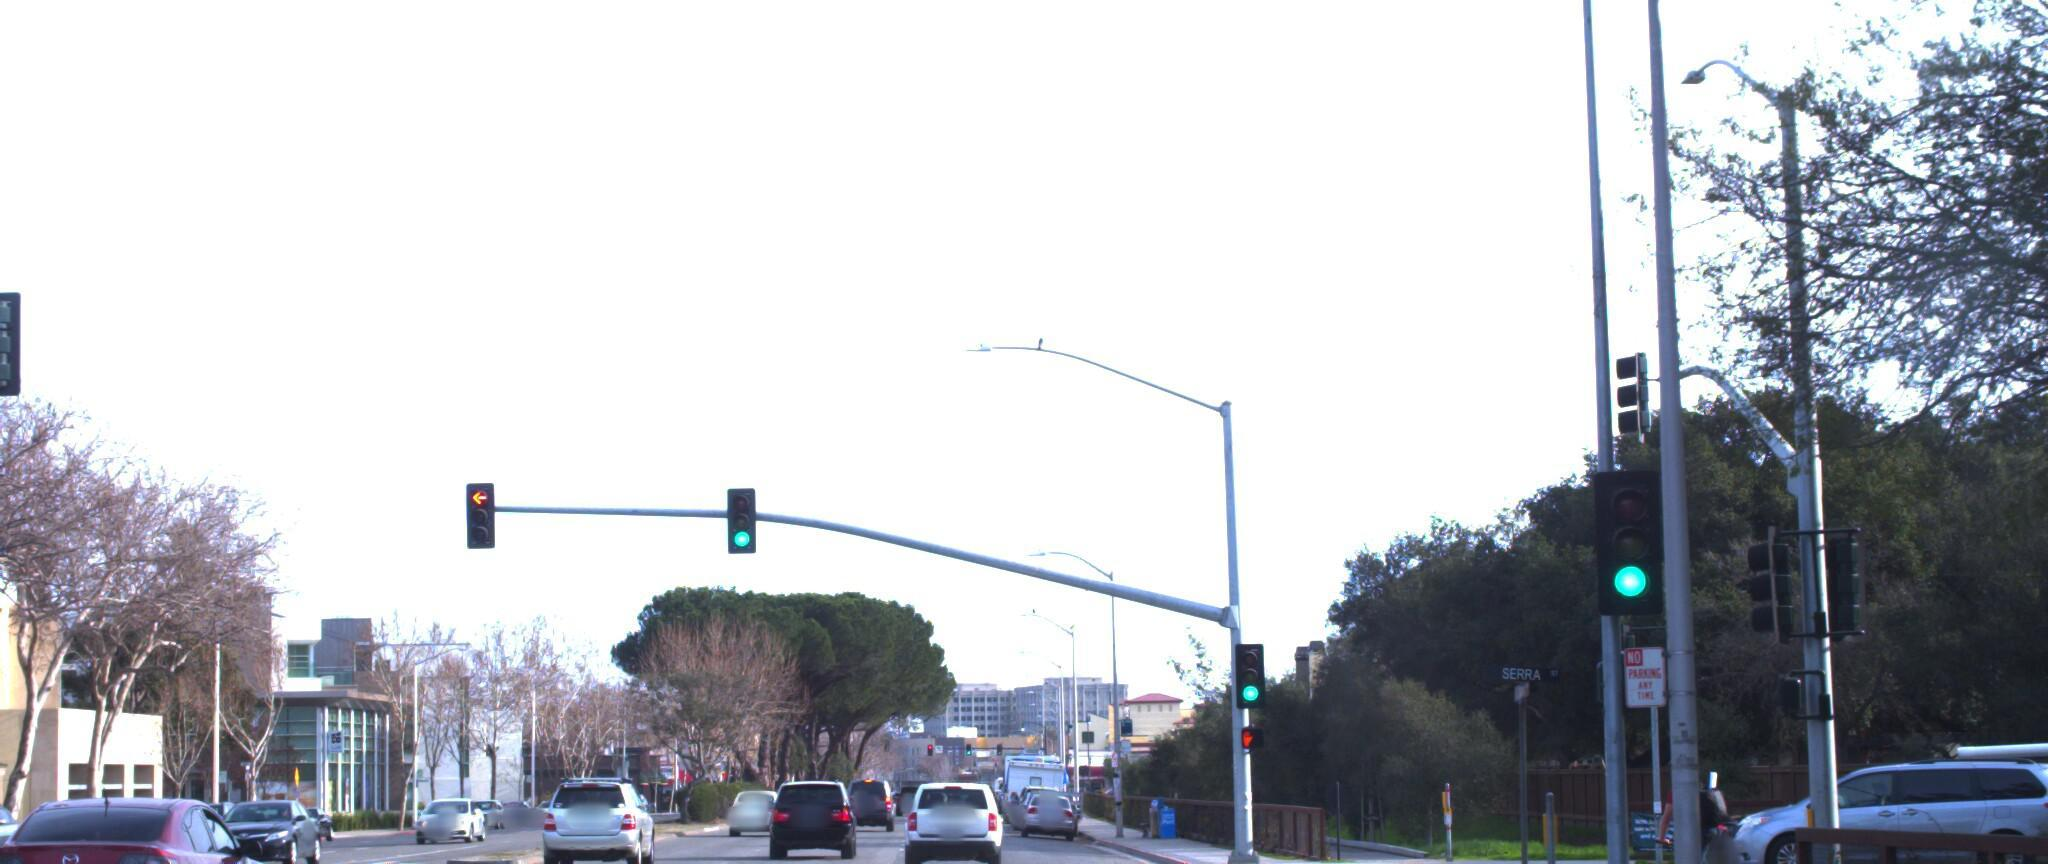bicycle: (1607, 749, 1787, 864)
car: (1703, 754, 2048, 864), (0, 784, 290, 864), (1923, 724, 2048, 864), (534, 773, 660, 864), (195, 780, 327, 864), (897, 773, 1004, 864), (760, 779, 852, 863), (0, 794, 35, 864)
